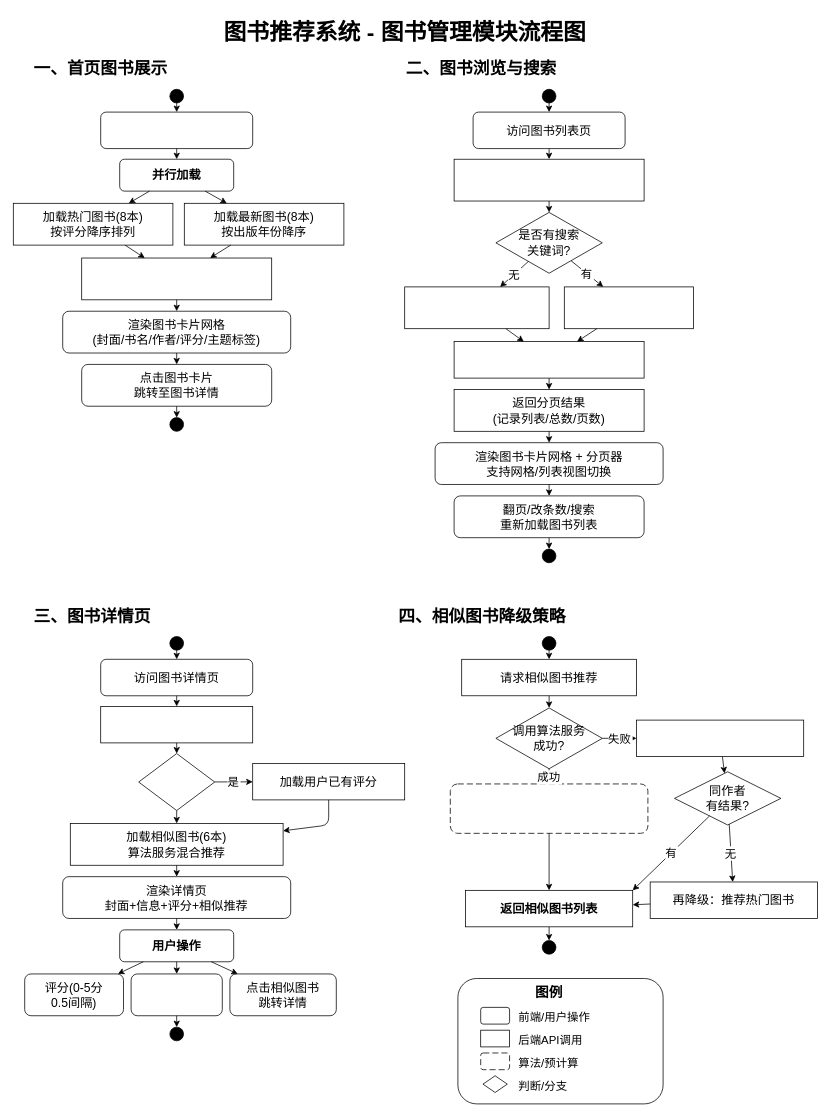
Some shapes in this 831 by 1117 pixel diagram are drawn without their labels. The centre of each missing label's shape, as x and y in pixels:
"主题名称缓存填充" goes at point 548,359.
"全量分页查询 按评分降序排列" goes at point 476,307.
"加载图书详情数据" goes at point 176,724.
"已登录?" goes at point 176,782.
"按书名或作者 模糊搜索" goes at point 629,307.
"换一批 相似图书" goes at point 176,994.
"查询数据库 填充主题名称缓存" goes at point 176,278.
"用户访问首页" goes at point 176,130.
"算法服务返回结果 (协同过滤+内容特征 动态混合推荐)" goes at point 549,808.
"降级：查询同作者图书" goes at point 720,738.
"默认加载图书列表 每页20本，按评分降序" goes at point 548,179.
